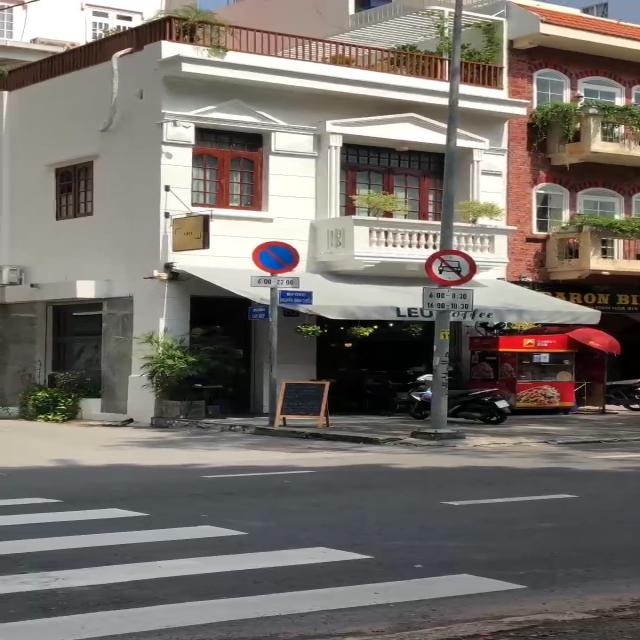Bien bao cam do xe: (249, 240, 308, 275)
Bien bao cam xe oto: (424, 248, 485, 285)
